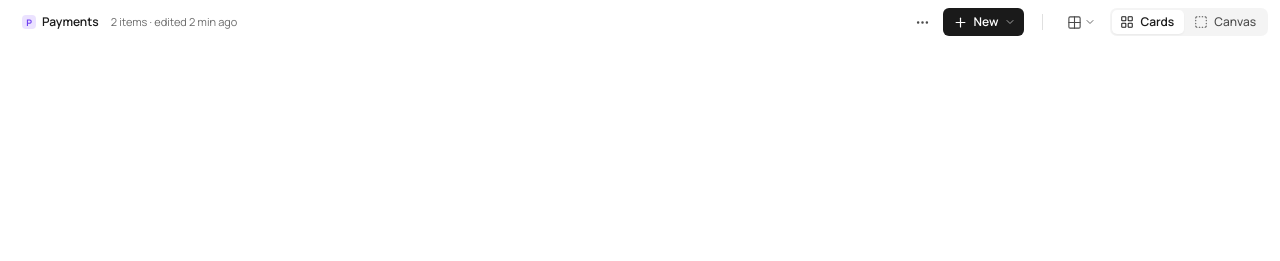
Test: header ⋯·New ▾ (#231 D8, T21) › Escape → name unchanged, focus to ⋯
Click the button named "More for Payments": (922, 22) [908,8,936,36]
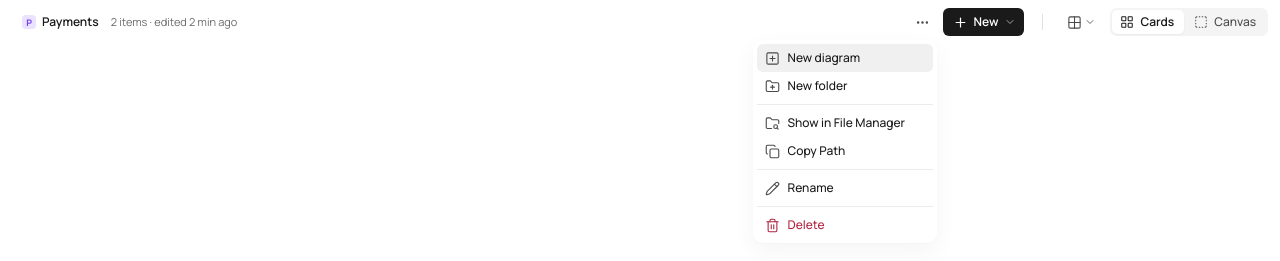
Click the menu item "Rename": (844, 188) [756,174,932,202]
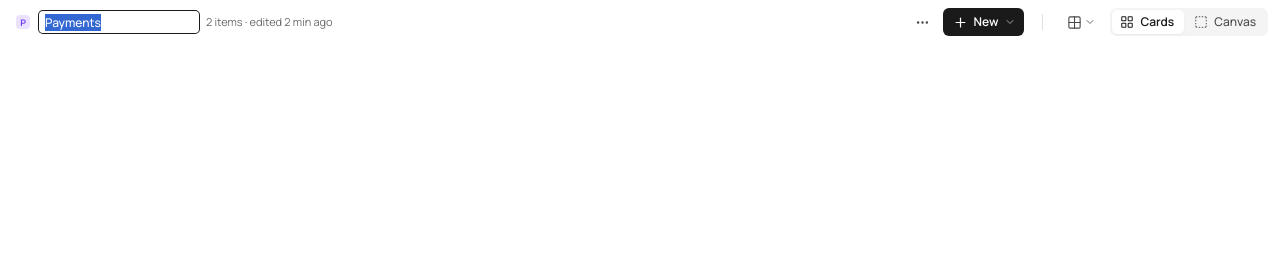
Type keys "Billing{Escape}"
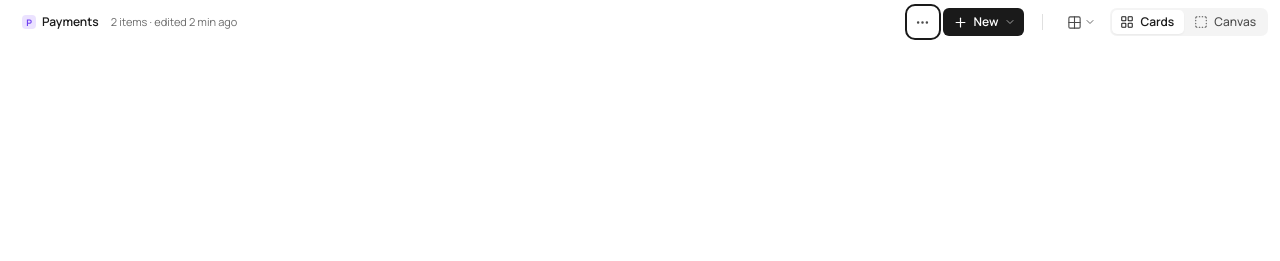
Result: the heading shows "Payments" at [42,13,99,30]
